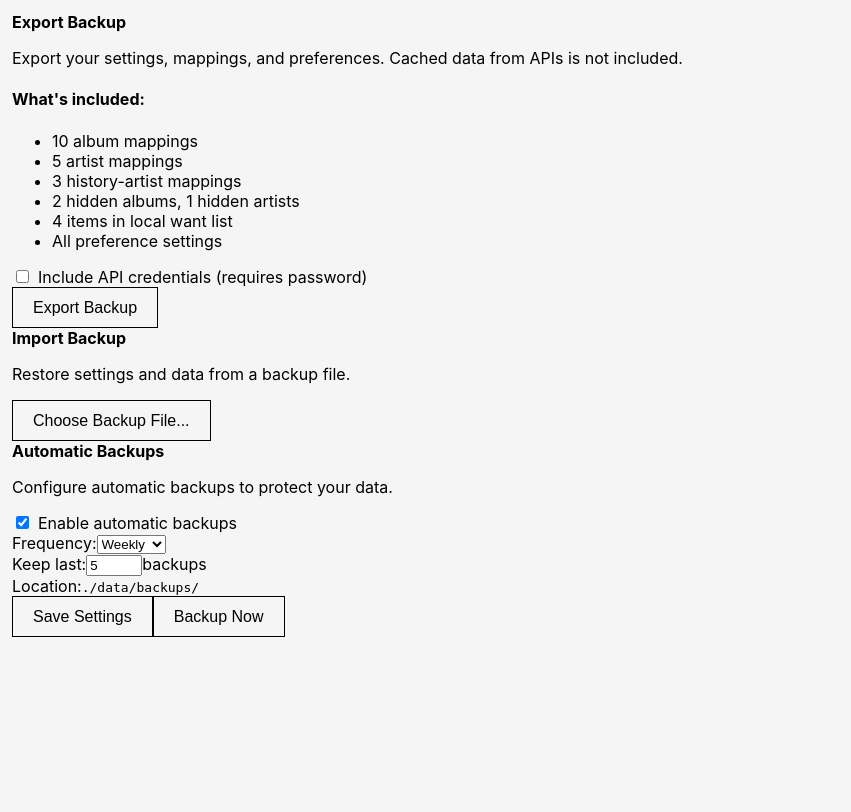
Test: SettingsBackupSection › shows error when exporting with credentials but no password
Click the checkbox labelled "Include API credentials (requires password)" at [22, 276], box [16, 270, 29, 283]
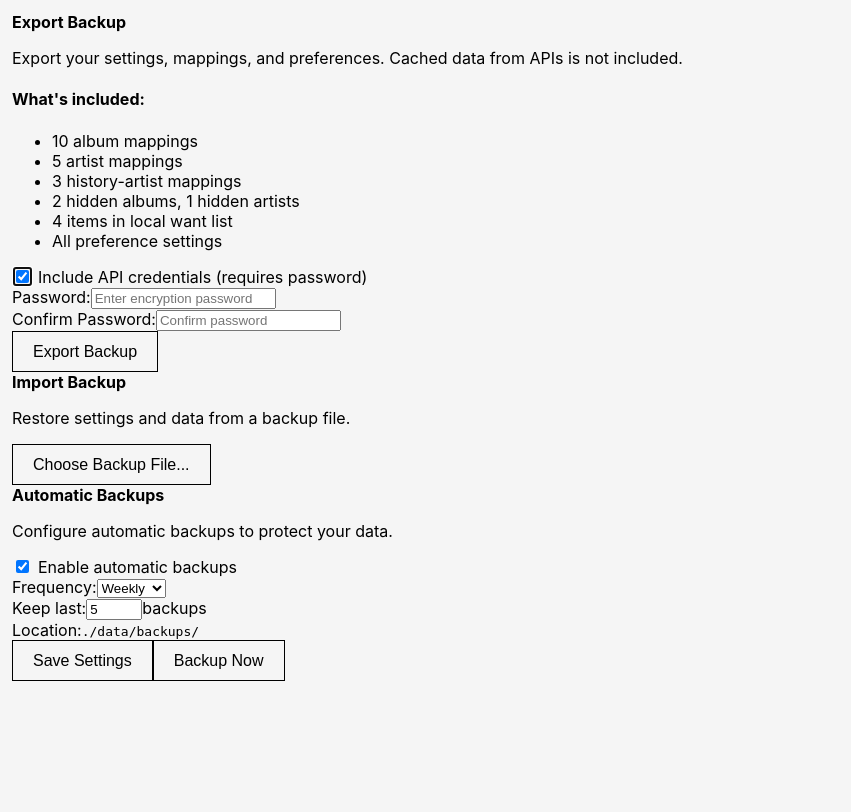
Click the button "Export Backup" at [85, 351], box [12, 330, 158, 372]
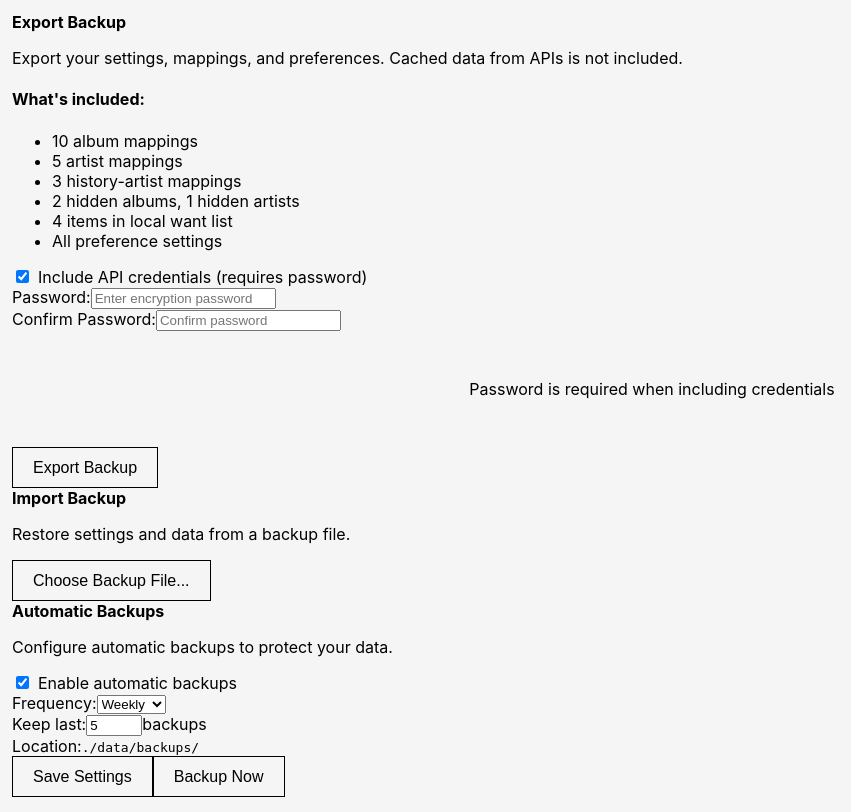
Check: the text "Password is required when including credentials" is shown, box [469, 378, 835, 398]
